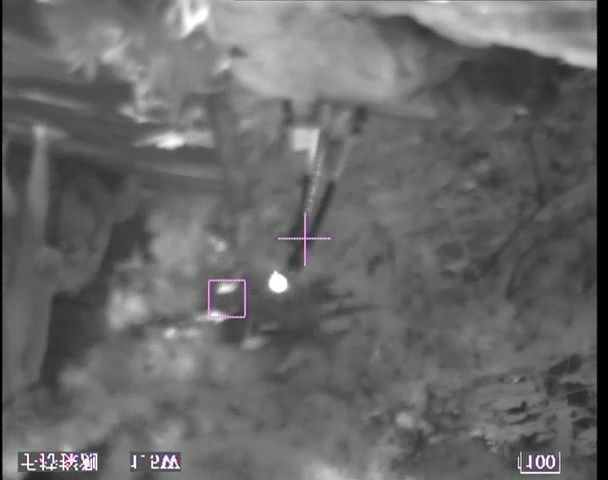my: (267, 270, 288, 294)
